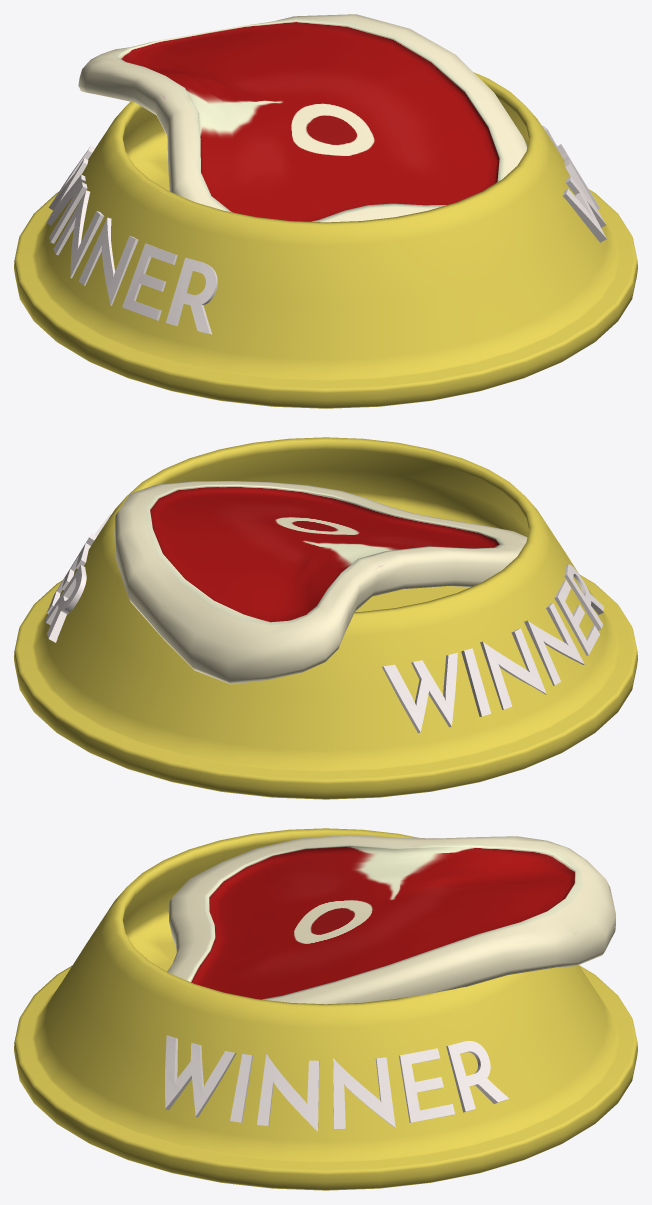
The model's file is WinIndicator.FBX.
3 views of the same model, one above another, from view 1: azimuth 30°, elevation 25°; view 2: azimuth 150°, elevation 25°; view 3: azimuth 270°, elevation 25° (orthographic).
Visible parts, largest first — view 1: DogBowl; view 2: DogBowl; view 3: DogBowl.
Boxes of the visible parts, box(x1,y1,x2,y2) form: DogBowl: box(14, 14, 637, 408); DogBowl: box(14, 437, 637, 799); DogBowl: box(14, 828, 637, 1190).
Bounding box in the file's own units: 14.18 × 4.39 × 14.18.
3 materials, 1 textured.
